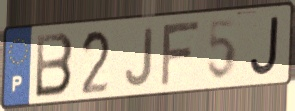2: (78, 28, 114, 96)
5: (205, 18, 238, 83)
B: (34, 31, 75, 100)
F: (158, 18, 203, 90)
J: (248, 14, 281, 78), (123, 25, 155, 89)
